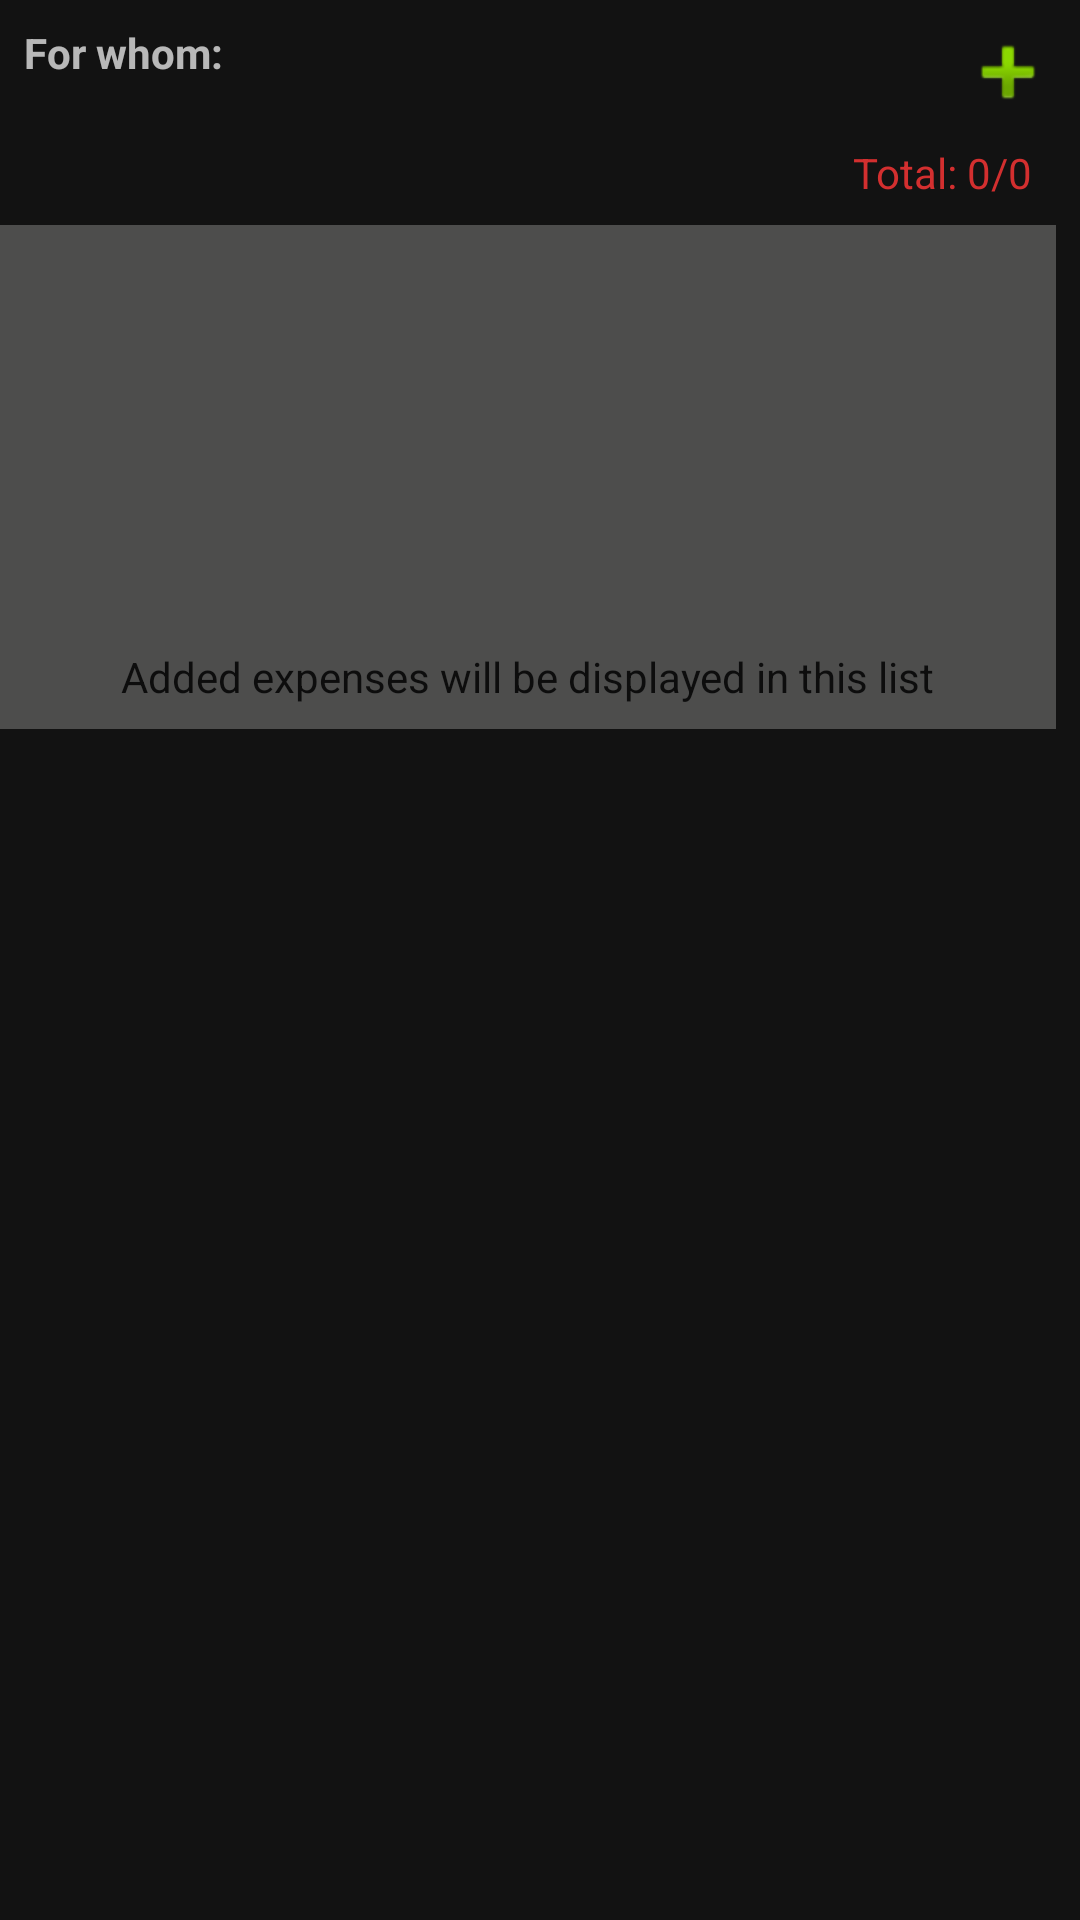

Icons on this 1080*1920 Android screen, each with the point to tap as (x=x, y=y):
add: (x=1008, y=72)
